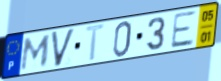0: (111, 19, 134, 59)
3: (145, 16, 168, 51)
E: (169, 9, 198, 51)
M: (19, 33, 53, 73)
T: (83, 22, 108, 64)
V: (49, 27, 77, 69)
